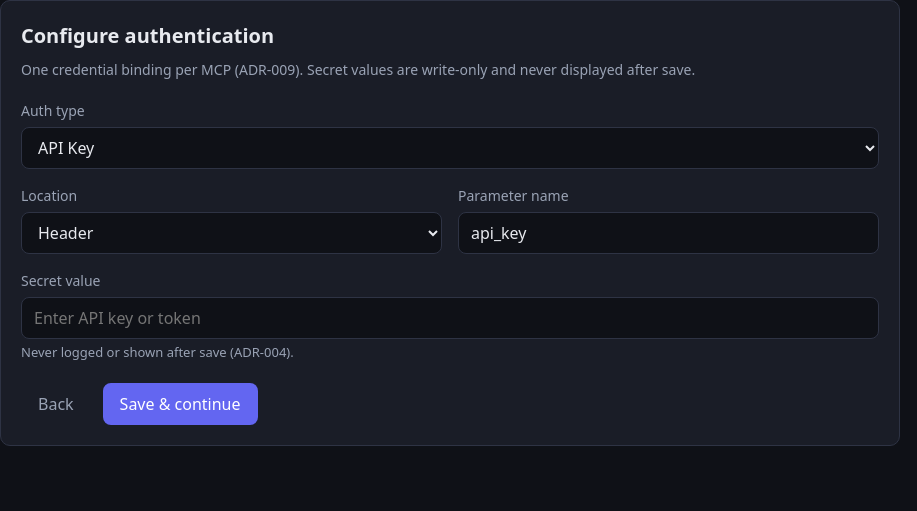
Test case: AuthStep › creates credentials and advances when secret is provided
Expected: the heading "Configure authentication" is shown, [21,22,274,49]
In the password field labelled "Secret value": (450, 318) [21,297,879,339], type "super-secret"
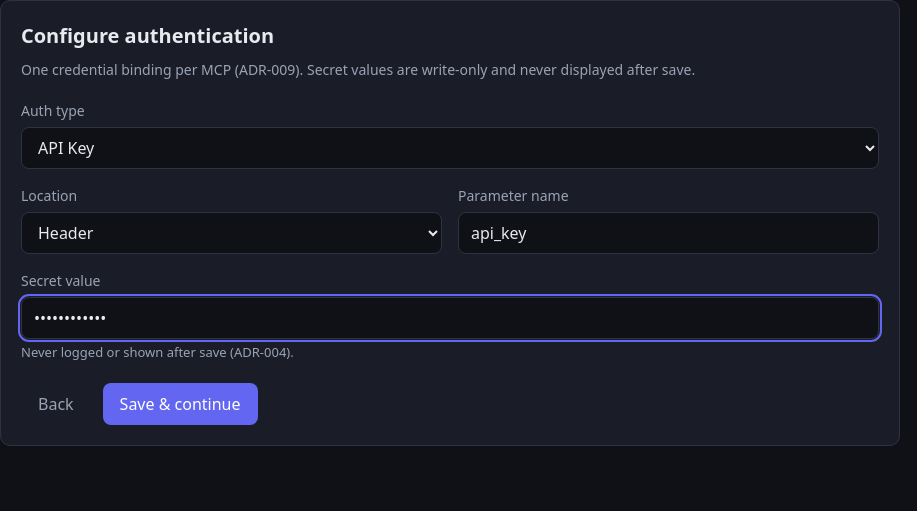
Click the button "Save & continue": (180, 404) [103,382,258,424]
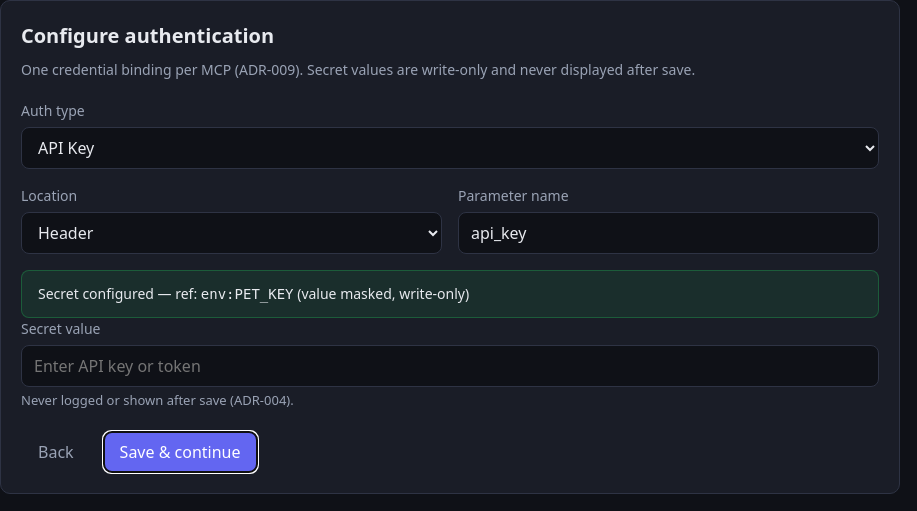
Expected: the text "Secret configured — ref: env:PET_KEY (value masked, write-only)" is shown, [21,270,879,318]
